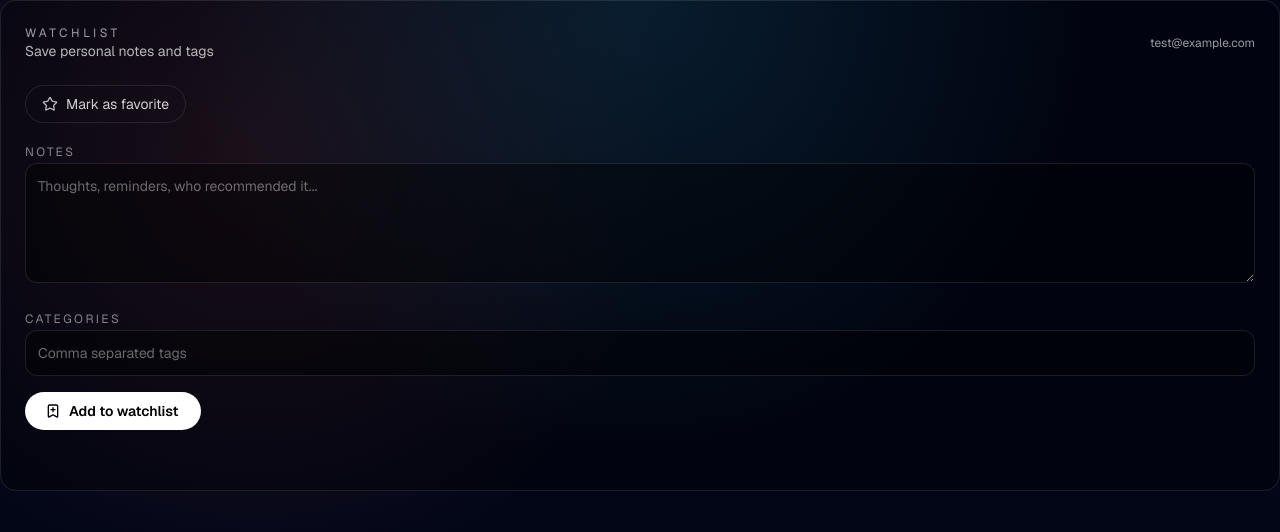
WatchlistPanel › categories parsing › should parse comma-separated categories correctly
Type "action, comedy, drama" into the field with placeholder "Comma separated tags".
click(640, 353); type("action, comedy, drama")  # box top-left (25, 330), bottom-right (1255, 376)
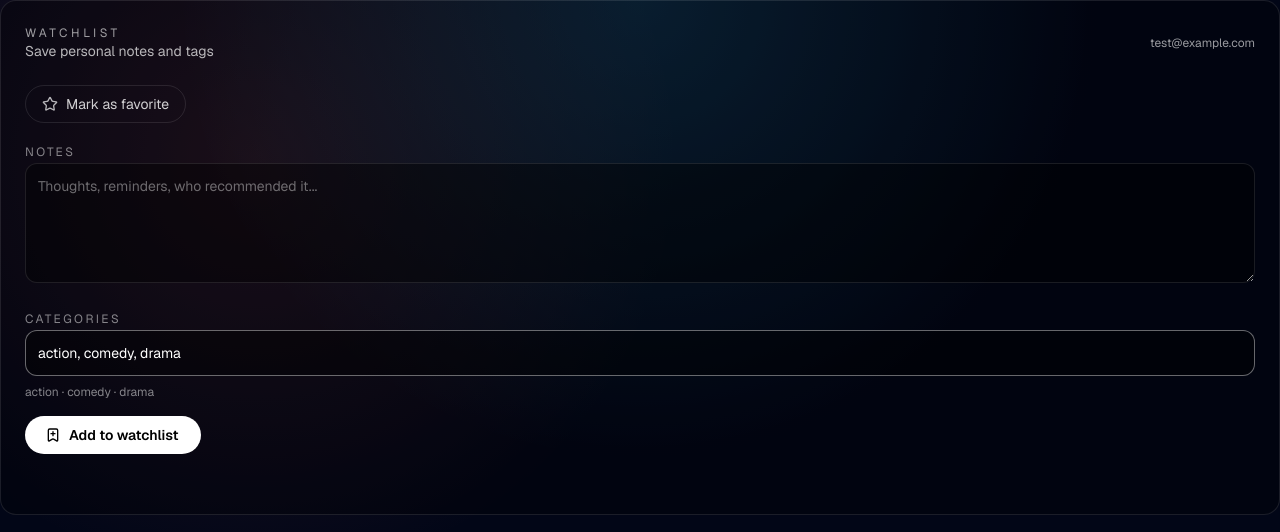
Expected: the text "action · comedy · drama" is shown, top-left (25, 384), bottom-right (154, 400)
